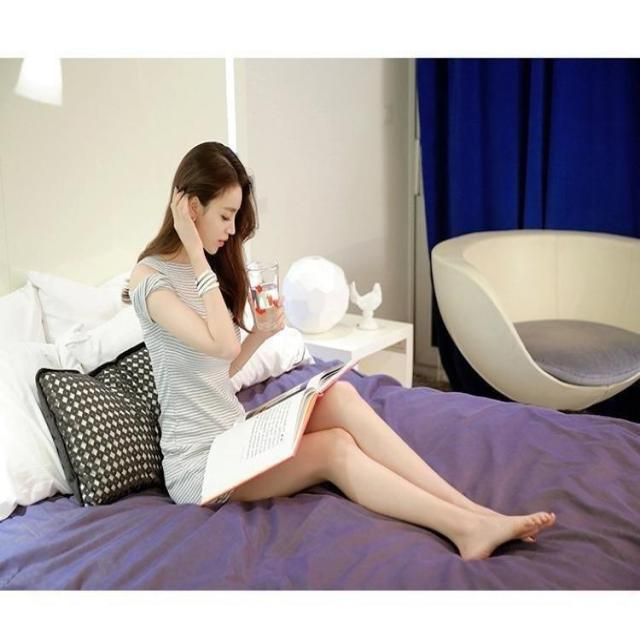short sleeve dress: (131, 248, 266, 508)
